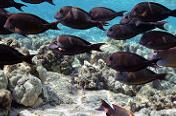Acanthuridae -Surgeonfishes-: (0, 9, 60, 35), (107, 50, 165, 74), (126, 2, 176, 23), (85, 4, 125, 20), (0, 0, 26, 13)
